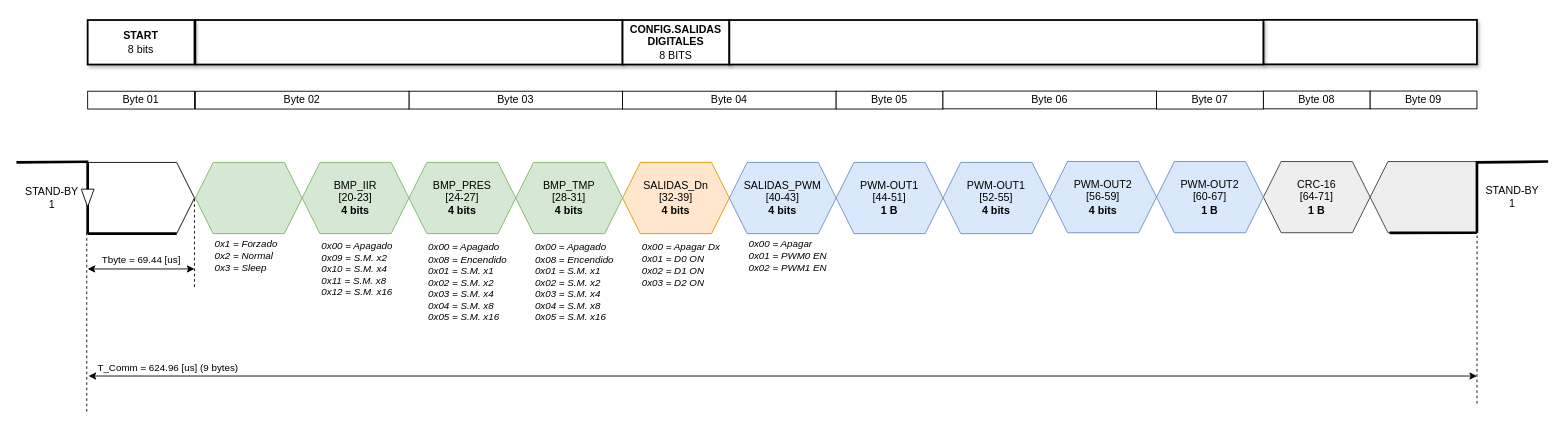
Some shapes in this 1566 by 428 pixel diagram are drawn without their labels. The shapes that lost their labels are listed below. From the top down, each one's centre as x and y in pixels, then its label:
At point 409,43: "CONFIGURACIÓN BMP280 16 BITS".
At point 996,43: "CONFIG.SALIDAS PWM 24 BITS".
At point 1370,43: "CRC-16 (0XA001) 16 BITS".
At point 131,198: "START 0x1B [0-7] 1 B".
At point 248,198: "BMP_MODE [16-19] 4 bits".
At point 1432,197: "CRC-16 [72-79] 1 B".
